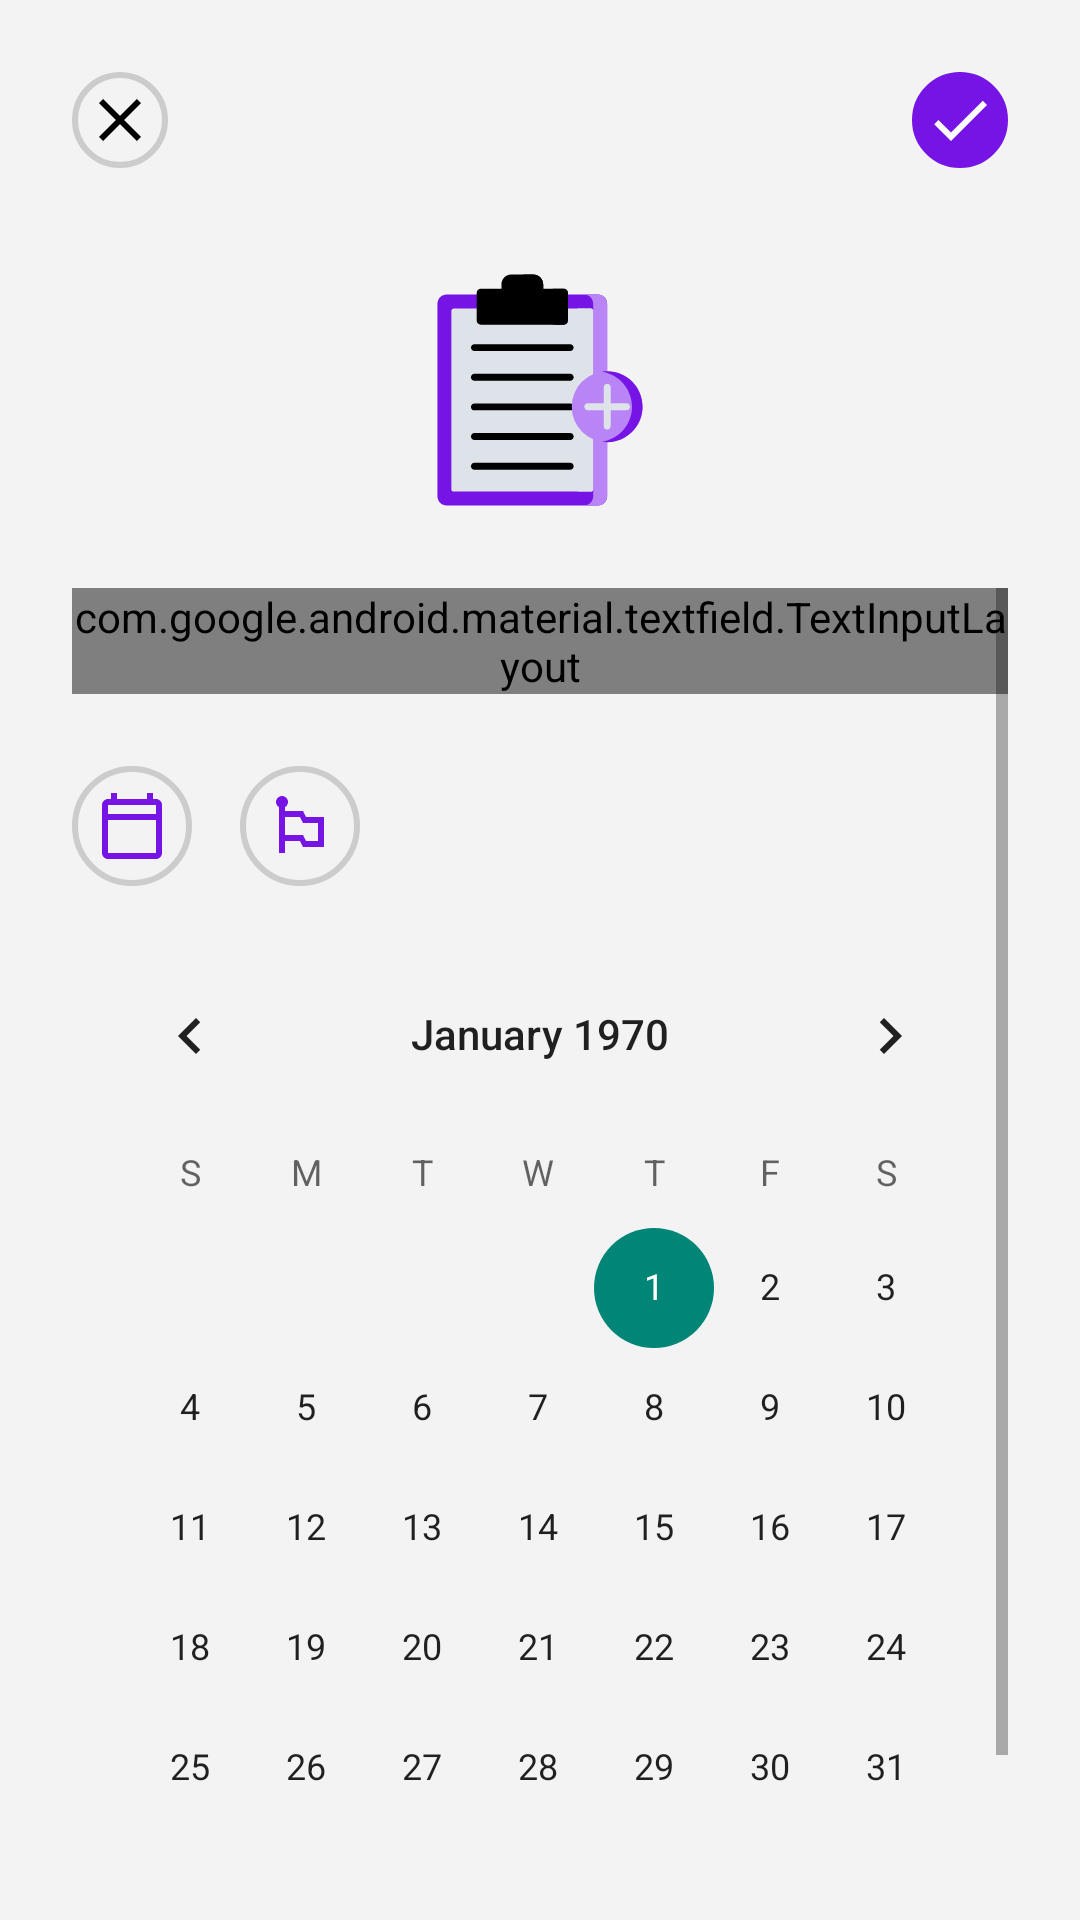

Screen size 1080px×1920px. Icon name, then its box in pixels as BBox(x1, y1, x2, y2):
add: BBox(437, 274, 643, 506)
calendar today: BBox(72, 766, 192, 886)
close: BBox(72, 72, 168, 168)
done: BBox(912, 72, 1008, 168)
emoji flags: BBox(240, 766, 360, 886)
